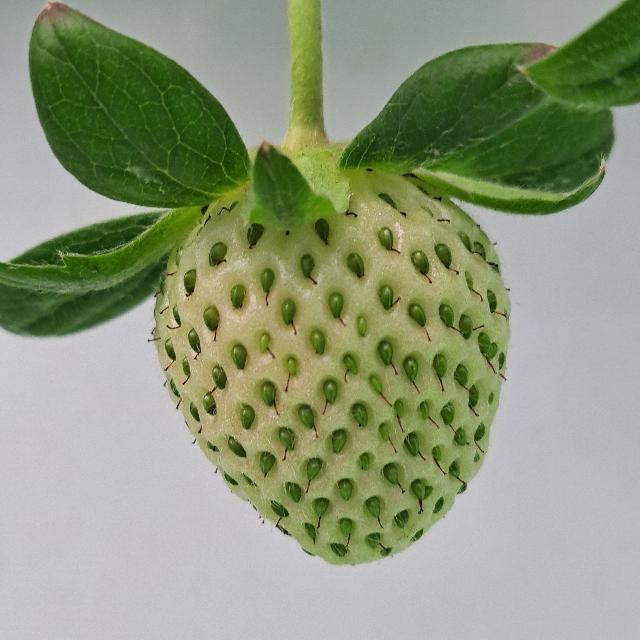Health_25: (152, 176, 510, 564)
